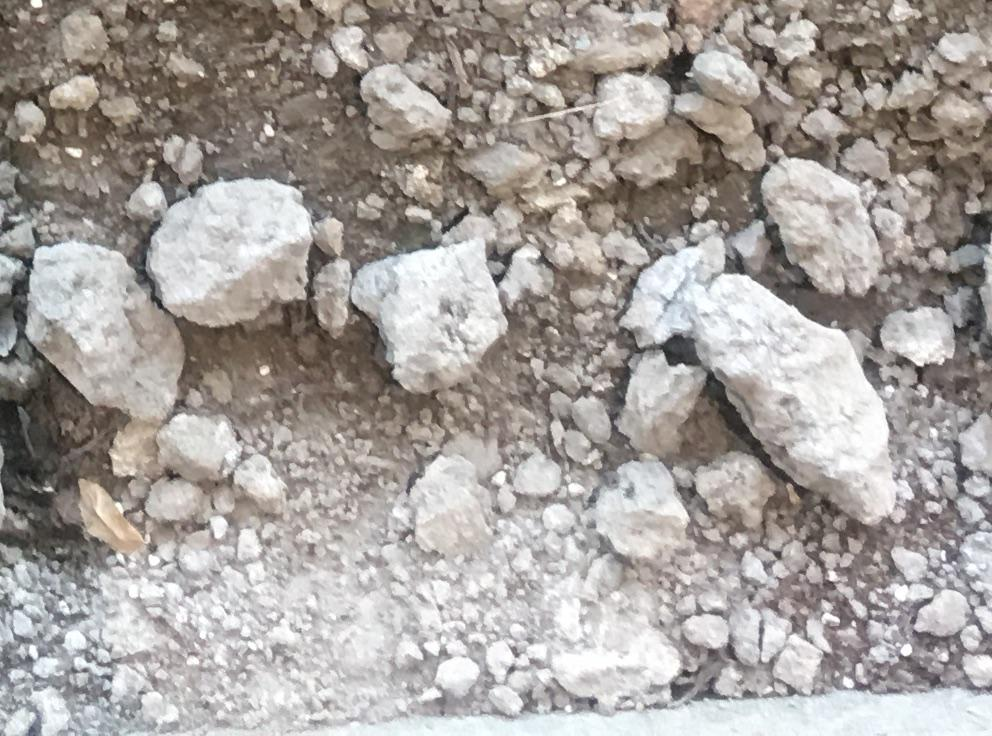block: (693, 269, 899, 525), (29, 238, 184, 425), (143, 178, 325, 326), (350, 242, 512, 403), (764, 153, 888, 303)
